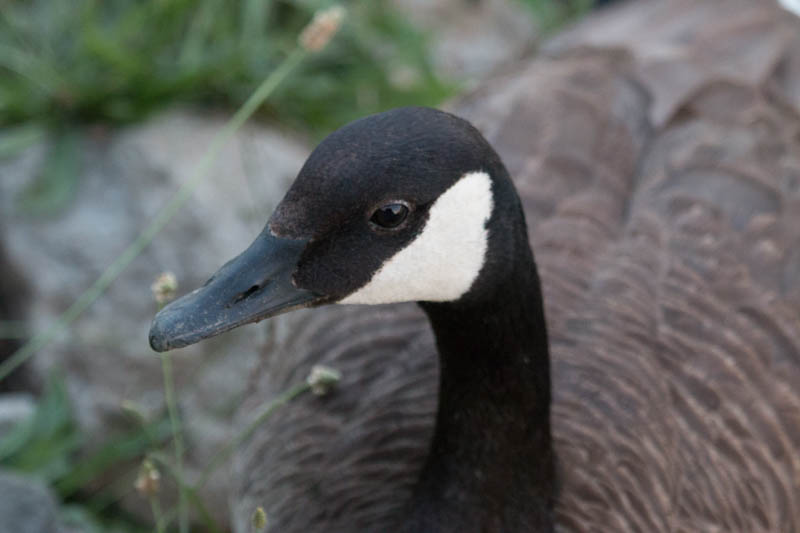goose-head: (148, 105, 529, 354)
